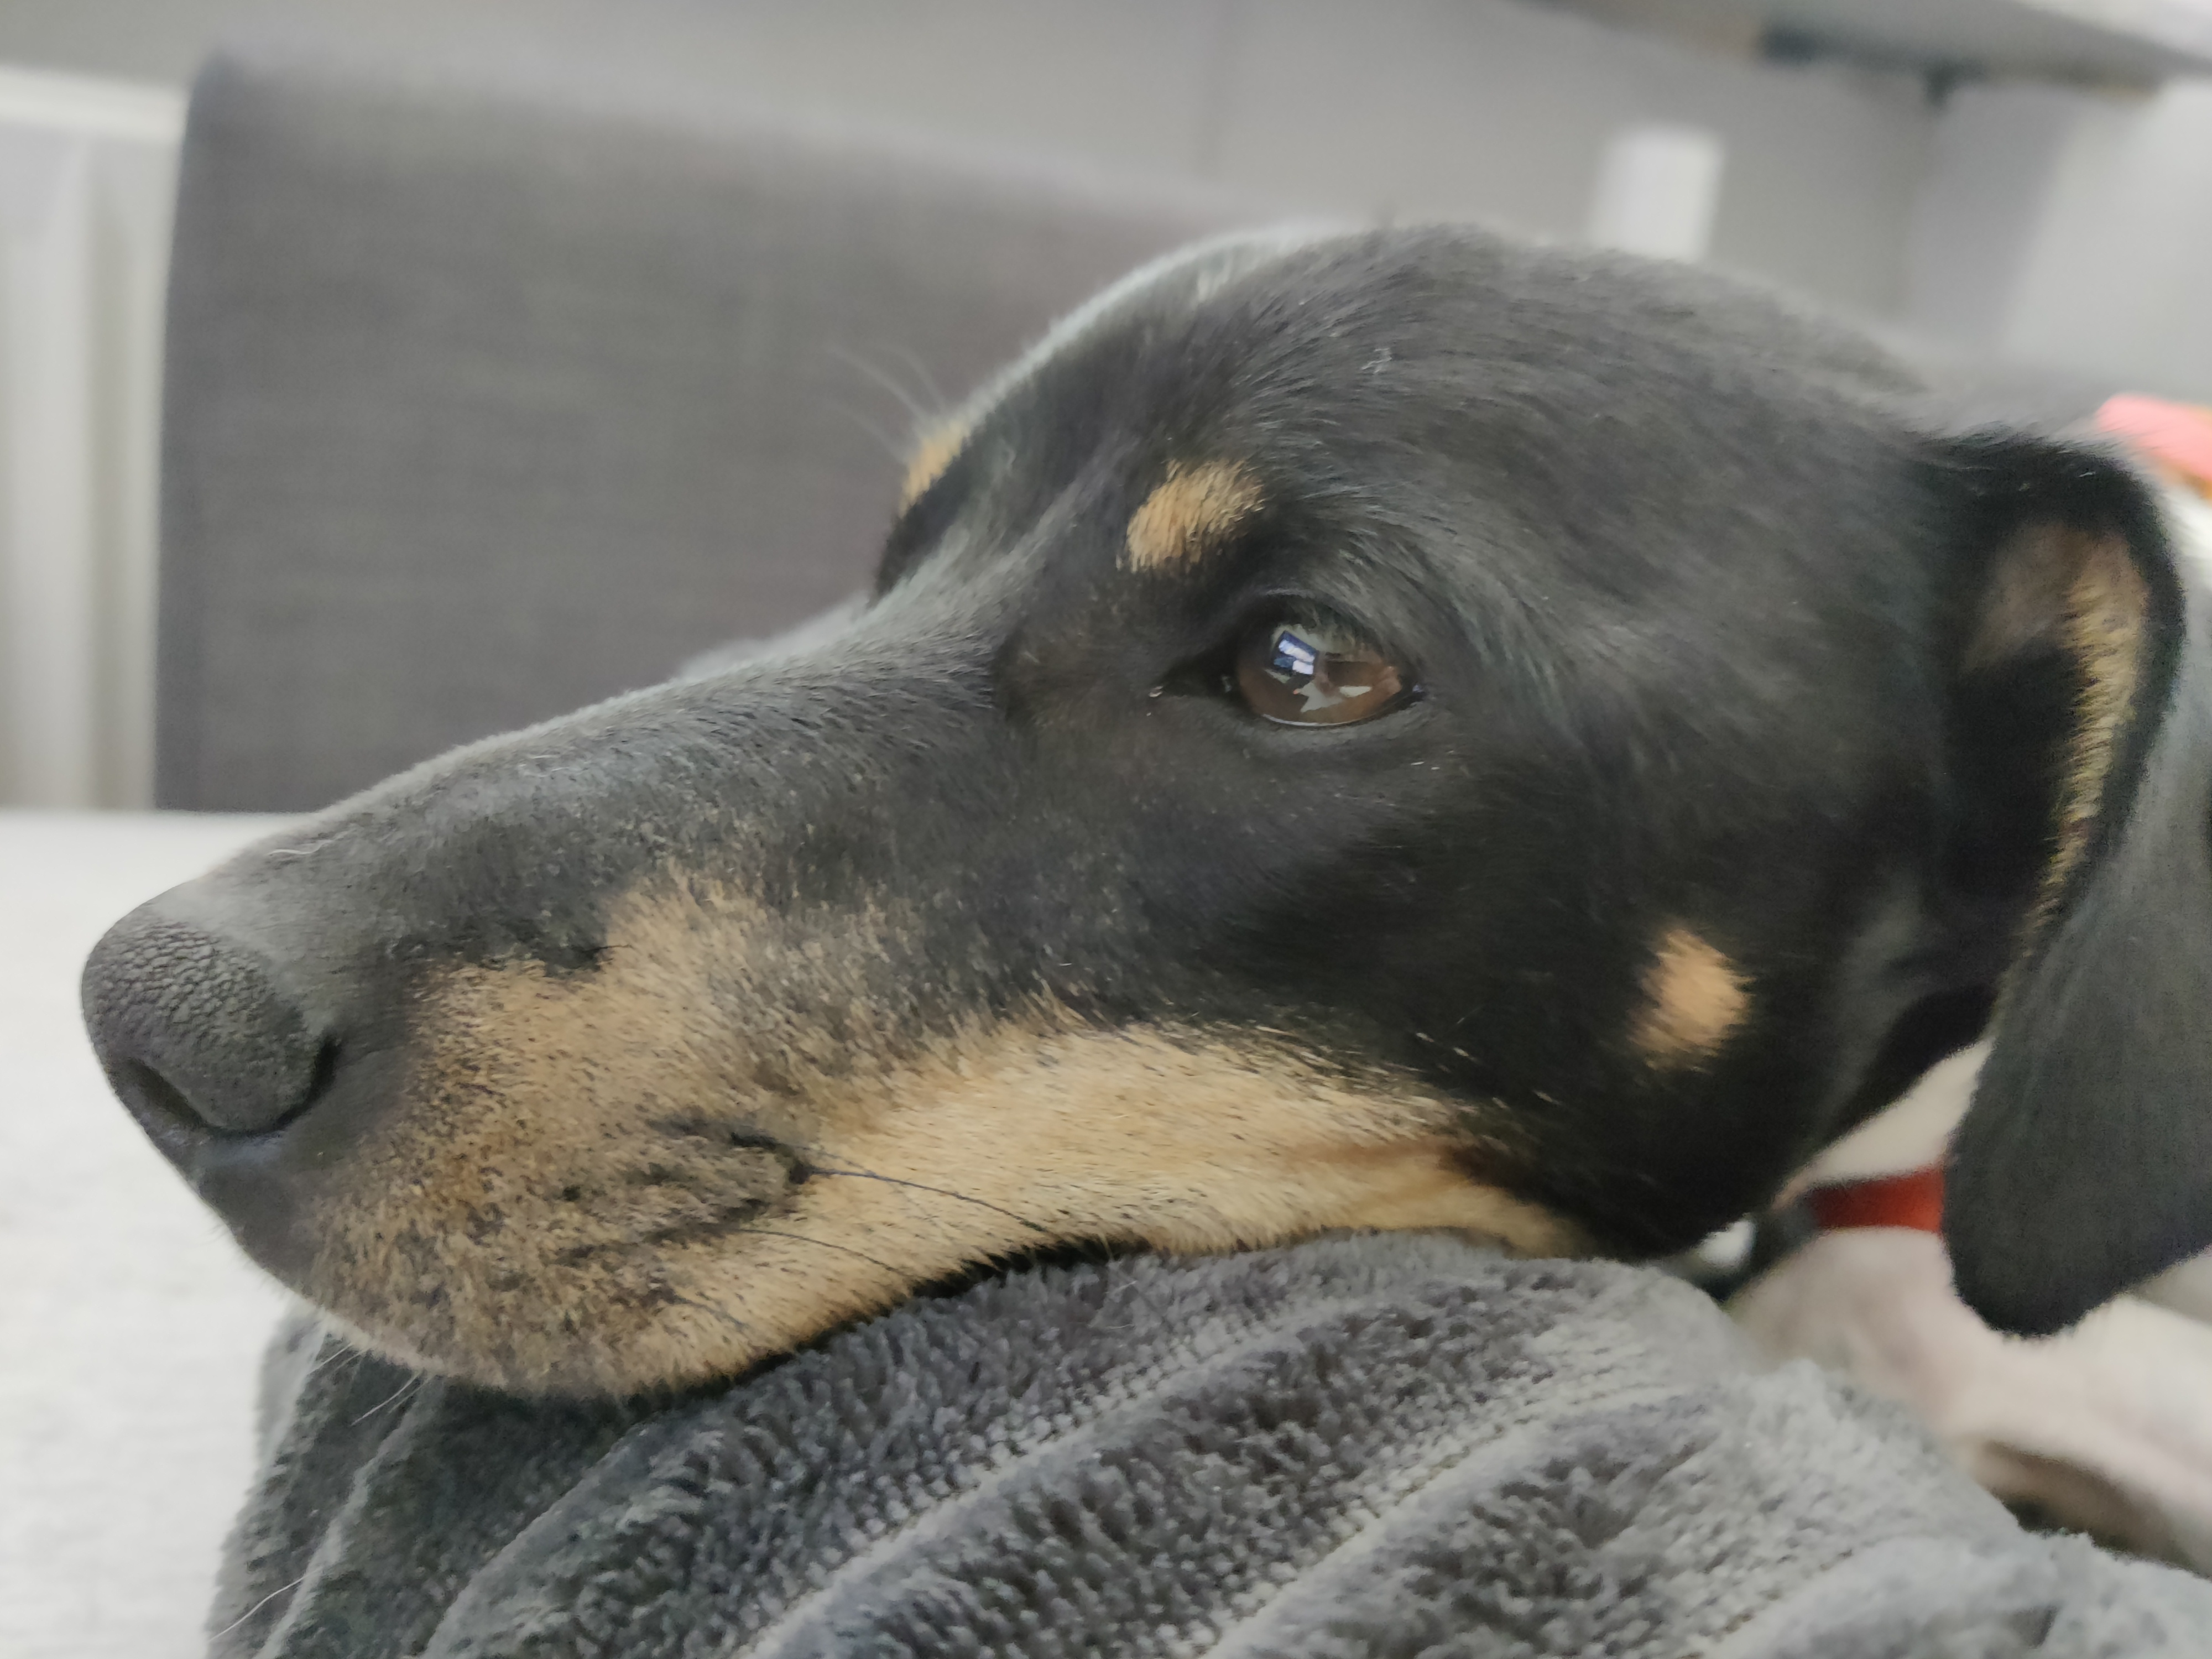Dog: (52, 173, 2212, 1427)
